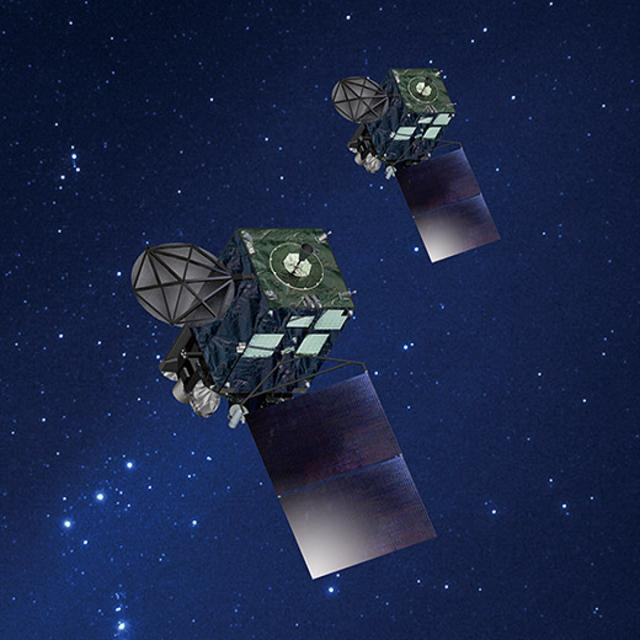medium_debris: (116, 218, 448, 627), (321, 45, 522, 270)
